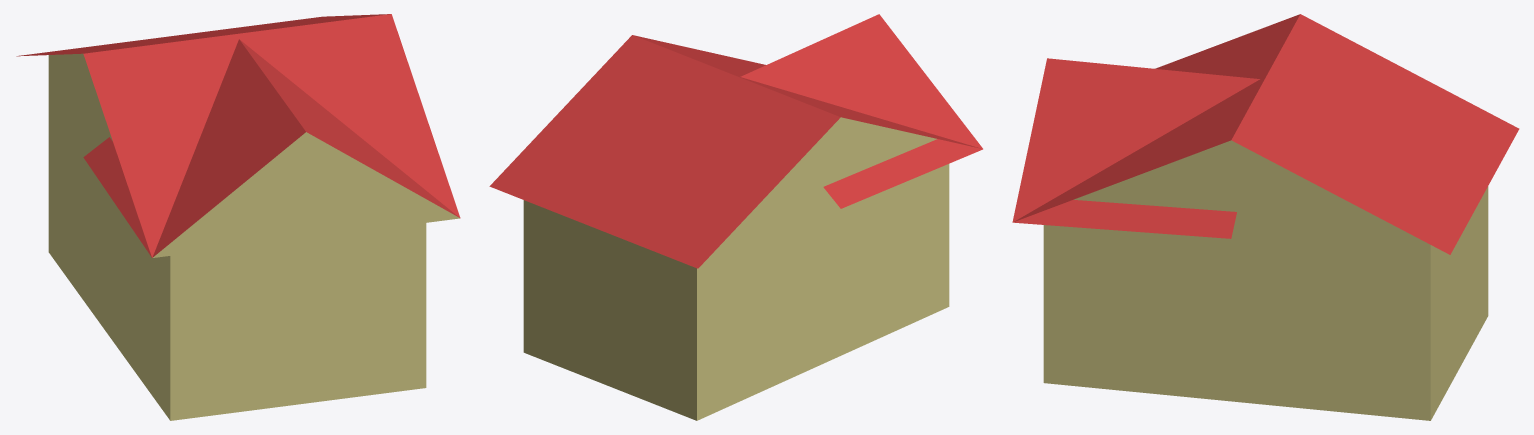
3 renders of one model, left to right at view 1: azimuth 30°, elevation 25°; view 2: azimuth 150°, elevation 25°; view 3: azimuth 270°, elevation 25°, orthographic. The views are drawn at different scales.
Size of the model in its own units: 15.34 by 19.43 by 11.52.
